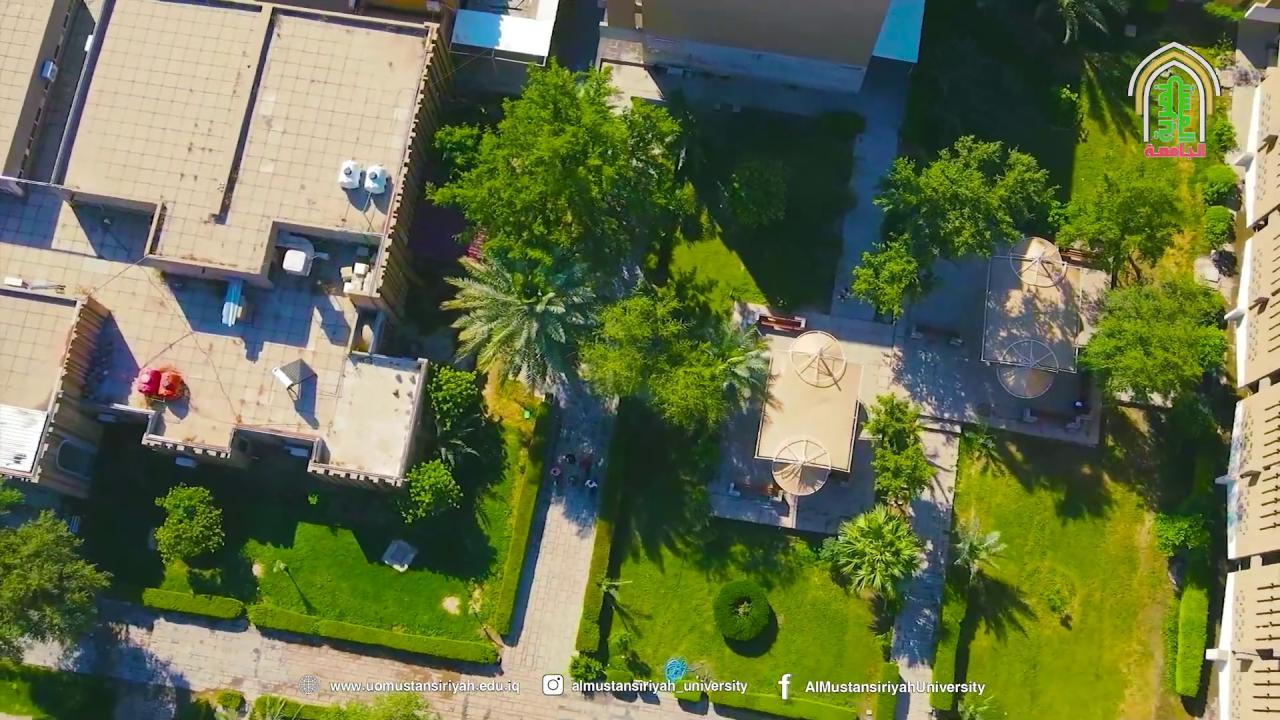tree: (423, 53, 779, 435), (422, 54, 698, 292), (574, 273, 779, 436), (871, 131, 1061, 264), (438, 248, 590, 398), (1075, 272, 1230, 408), (0, 502, 114, 668), (1048, 167, 1194, 289), (929, 572, 1037, 718), (646, 319, 779, 434), (574, 287, 688, 413), (820, 503, 927, 608), (860, 391, 941, 518), (849, 231, 921, 347), (989, 145, 1060, 242), (152, 481, 225, 570), (424, 363, 484, 471), (1160, 581, 1209, 699), (716, 154, 788, 230), (574, 337, 644, 414), (396, 458, 463, 525), (947, 514, 1007, 583), (712, 578, 772, 642), (861, 392, 922, 454), (1055, 0, 1128, 45), (79, 316, 115, 401), (1152, 511, 1210, 563), (1189, 162, 1239, 207), (960, 418, 1000, 470), (568, 649, 607, 701), (1202, 107, 1238, 163), (1058, 84, 1089, 143), (1200, 203, 1235, 252)
